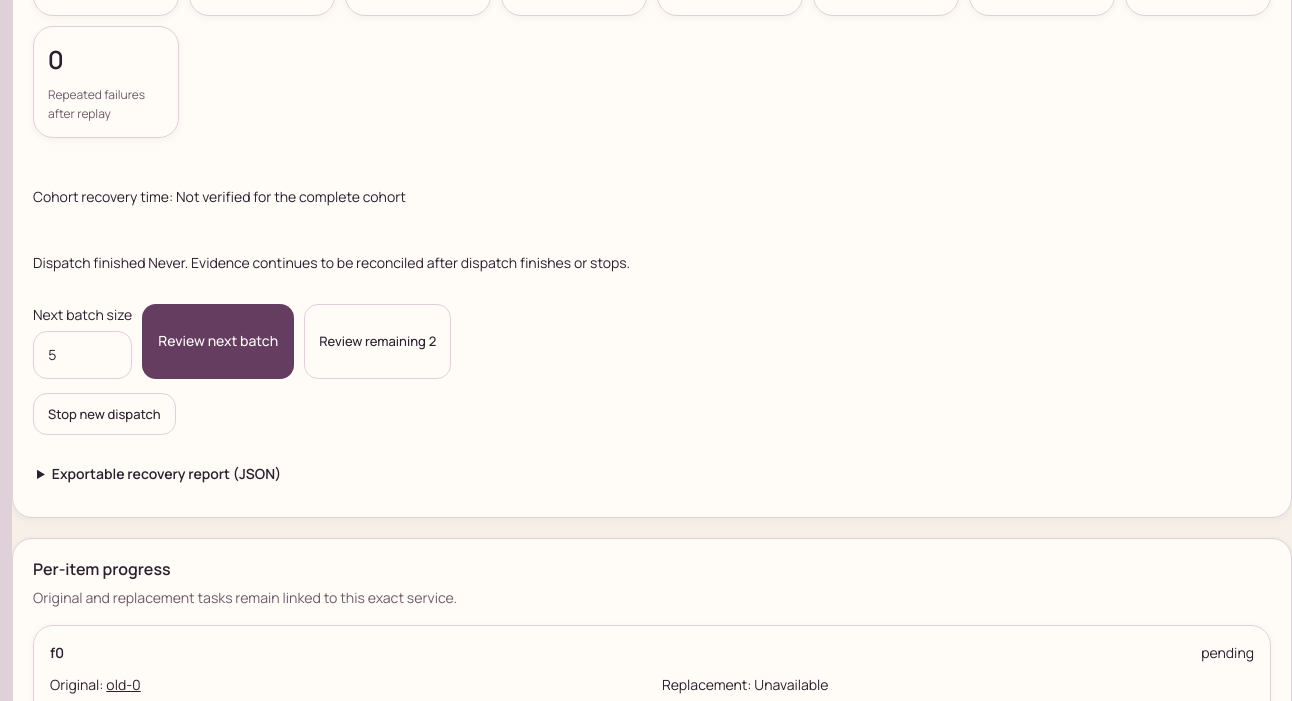
Test: Recovery operator workflows › retains action errors while polling and ignores double submits
(page scrolled)
Click the button "Review next batch" at x=218, y=341, box [142,304,294,379]
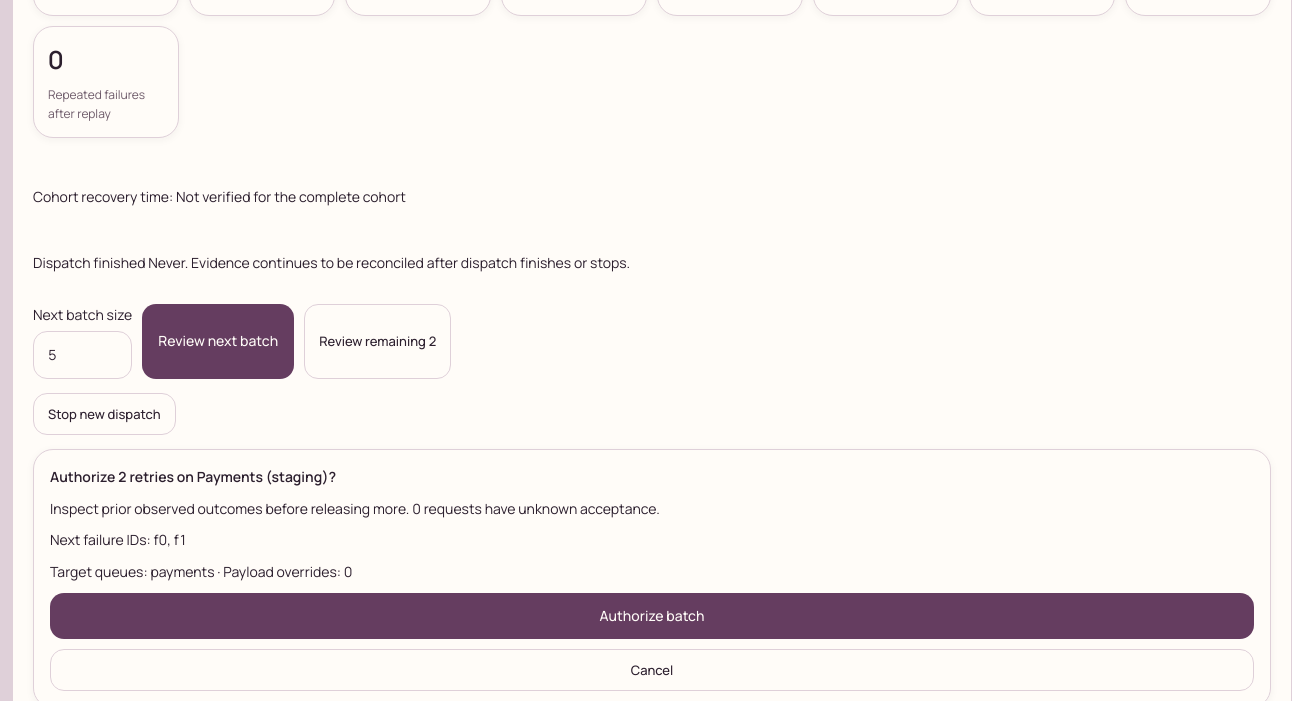
Click the button "Authorize batch" at x=652, y=616, box [50,593,1254,639]
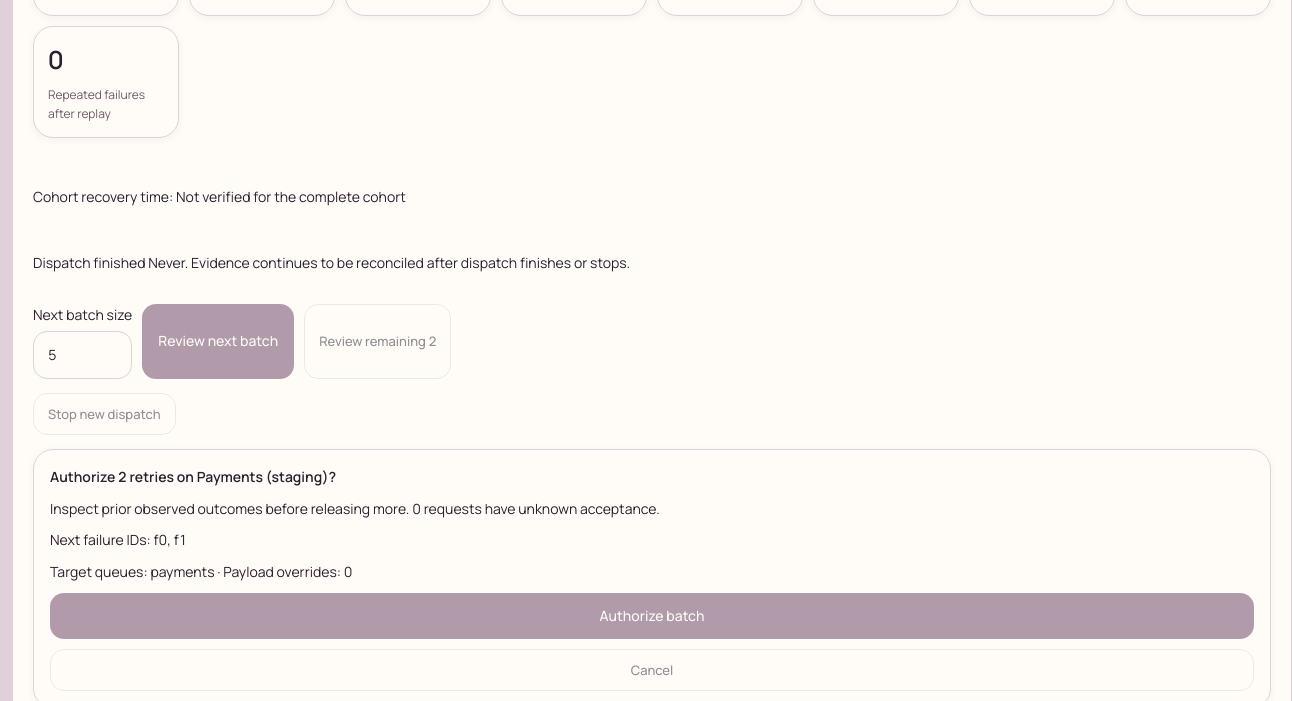
Click the button "Authorize batch" at x=652, y=616, box [50,593,1254,639]
Wait 3000 ms
(page scrolled)
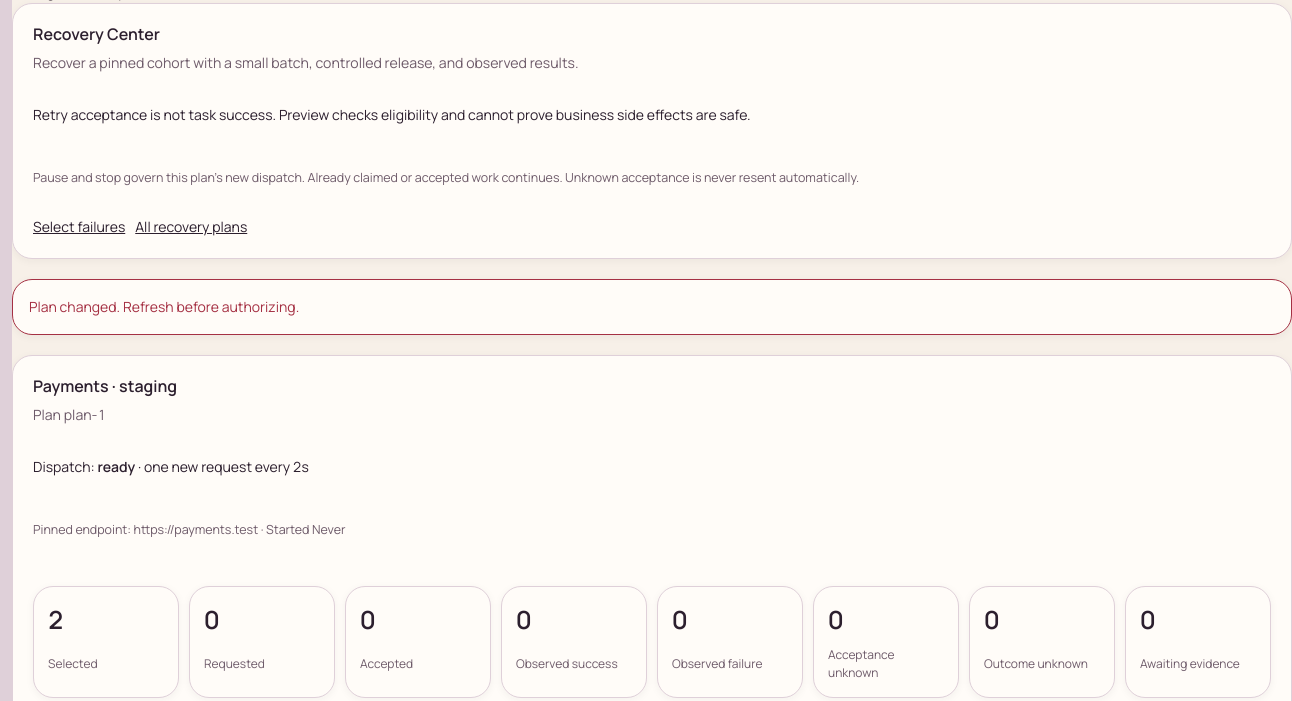
Expected: the text "Plan changed. Refresh before authorizing." is shown, [12,279,1291,335]
